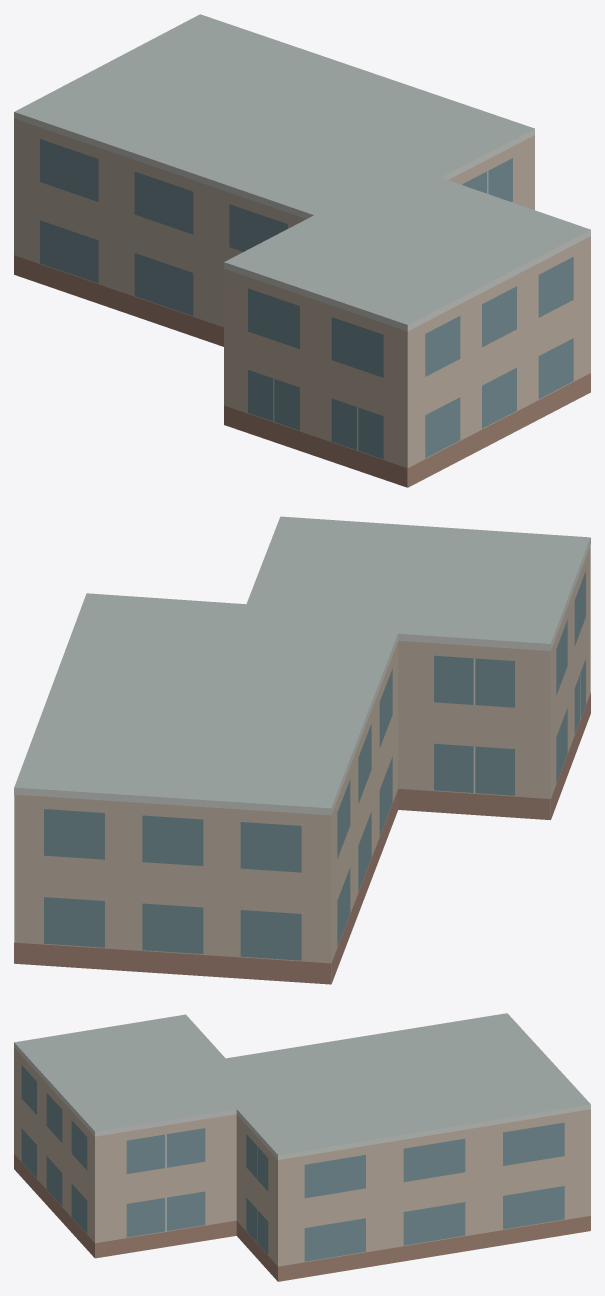
File: survey-upis-32833887.glb
3 views of the same model, one above another, from view 1: azimuth 30°, elevation 25°; view 2: azimuth 150°, elevation 25°; view 3: azimuth 270°, elevation 25° (orthographic). The views are drawn at different scales.
Parts seen in each view (by area): view 1: survey-upis-32833887.tmp; view 2: survey-upis-32833887.tmp; view 3: survey-upis-32833887.tmp.
Boxes of the visible parts, bbox=[...] form: survey-upis-32833887.tmp: bbox=[14, 14, 590, 487]; survey-upis-32833887.tmp: bbox=[14, 516, 590, 984]; survey-upis-32833887.tmp: bbox=[14, 1013, 590, 1281].
Size of the model in its own units: 14.66 by 6.1 by 25.17.
